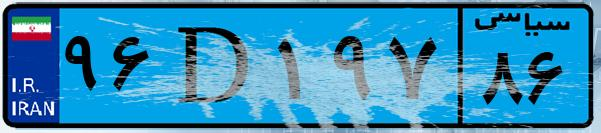1: (270, 28, 330, 110)
6: (525, 38, 570, 115), (110, 28, 158, 98)
7: (385, 28, 445, 110)
8: (475, 38, 525, 113)
9: (330, 28, 385, 110), (57, 26, 110, 100)
D: (158, 12, 270, 120)
